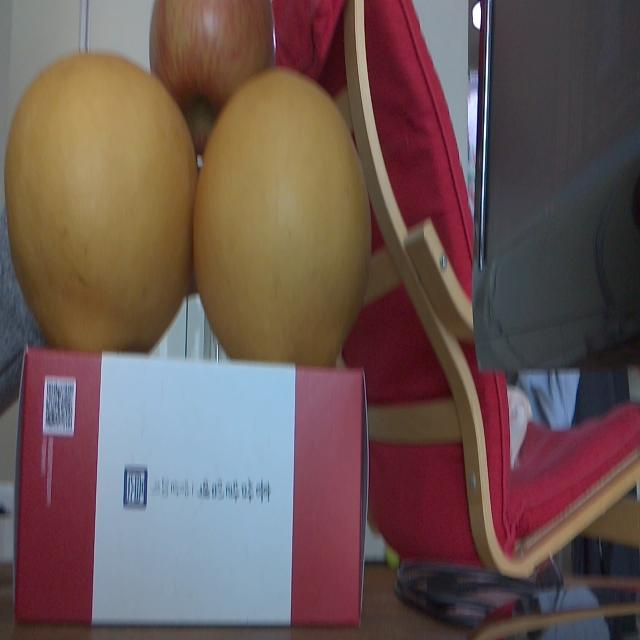apple: (150, 0, 274, 150)
pear: (5, 53, 195, 370), (196, 70, 373, 366)
